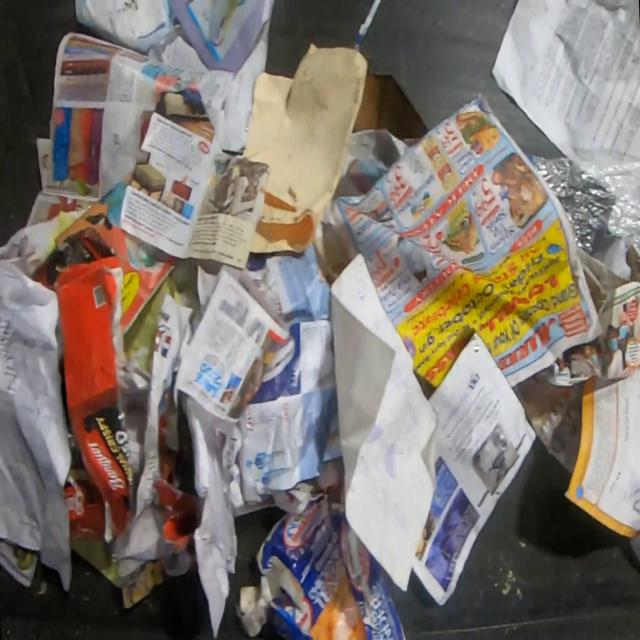cardboard: (48, 255, 144, 546), (234, 479, 407, 640), (352, 70, 430, 147), (152, 477, 204, 553)
soft_plastic: (522, 147, 640, 263)
